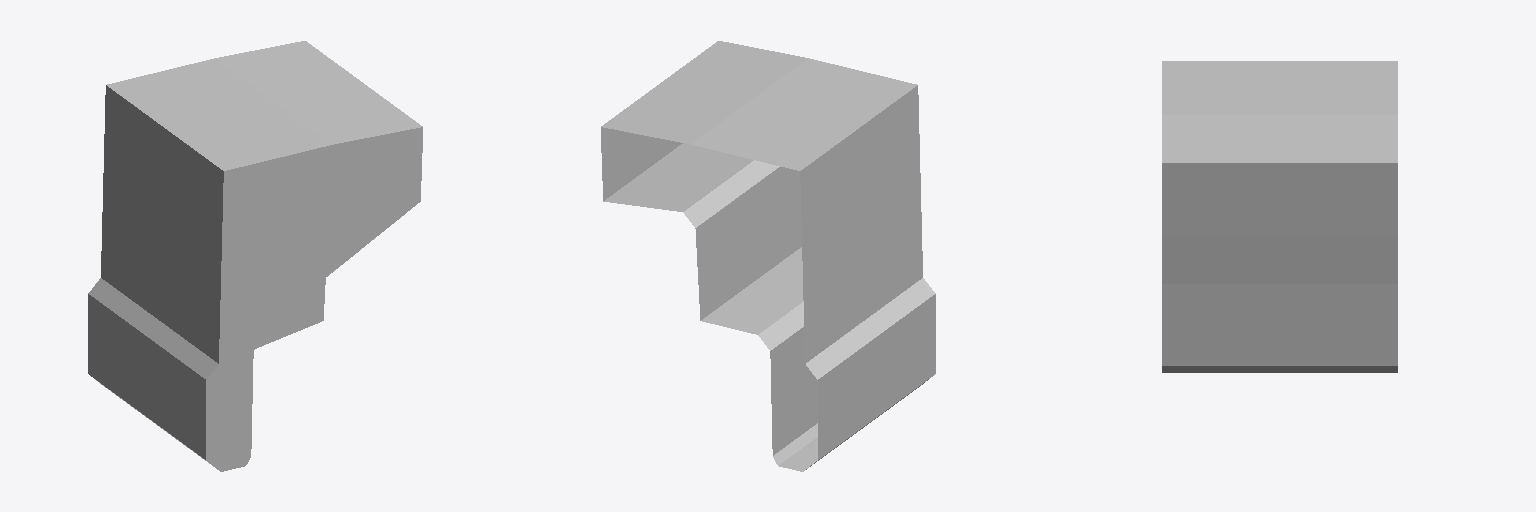
File: building-89.obj
3 renders of one model, left to right at view 1: azimuth 30°, elevation 25°; view 2: azimuth 150°, elevation 25°; view 3: azimuth 270°, elevation 25°, orthographic.
Bounding box in the file's own units: 26.09 × 34.5 × 24.58.